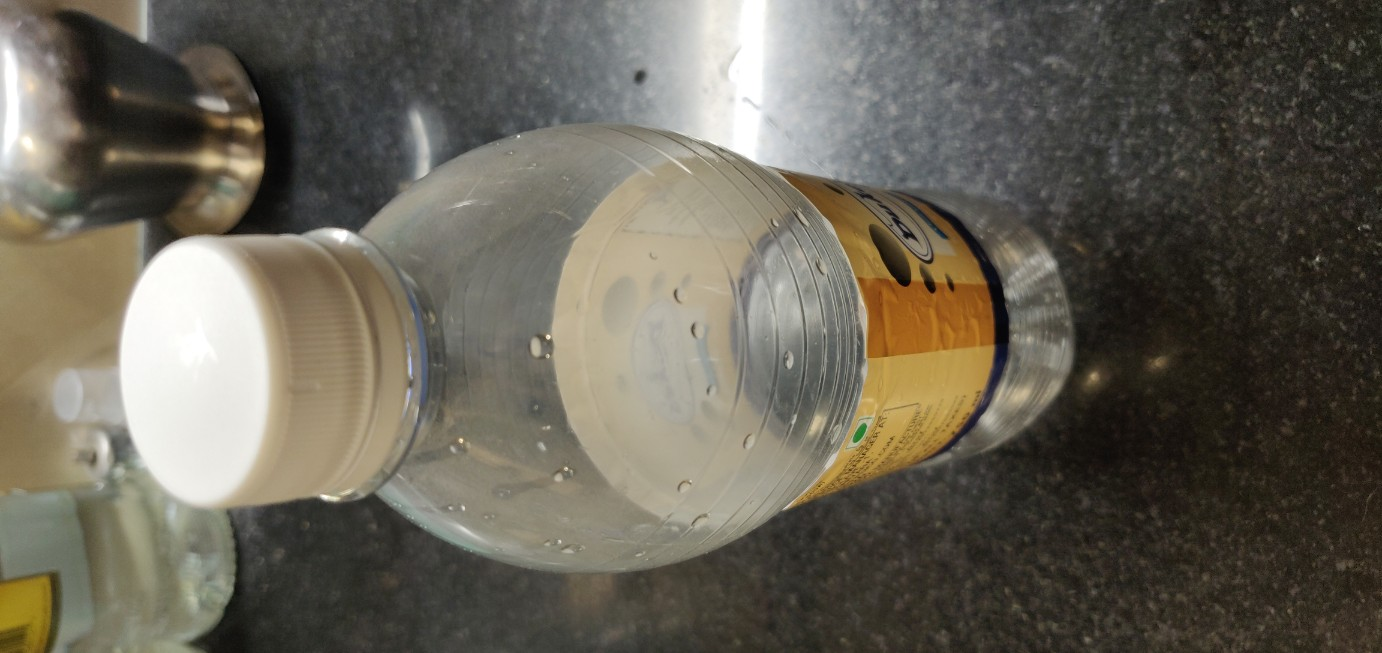Electronics: (91, 95, 1117, 587)
